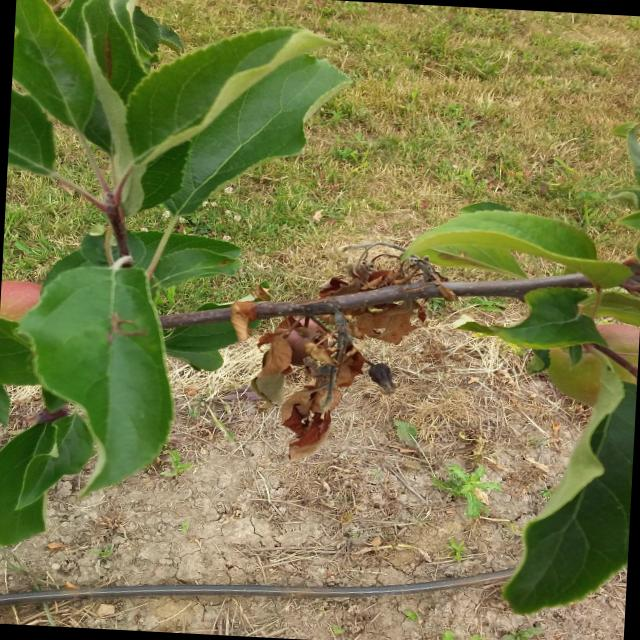-FireBlight-: (226, 282, 350, 458), (348, 245, 444, 345)
